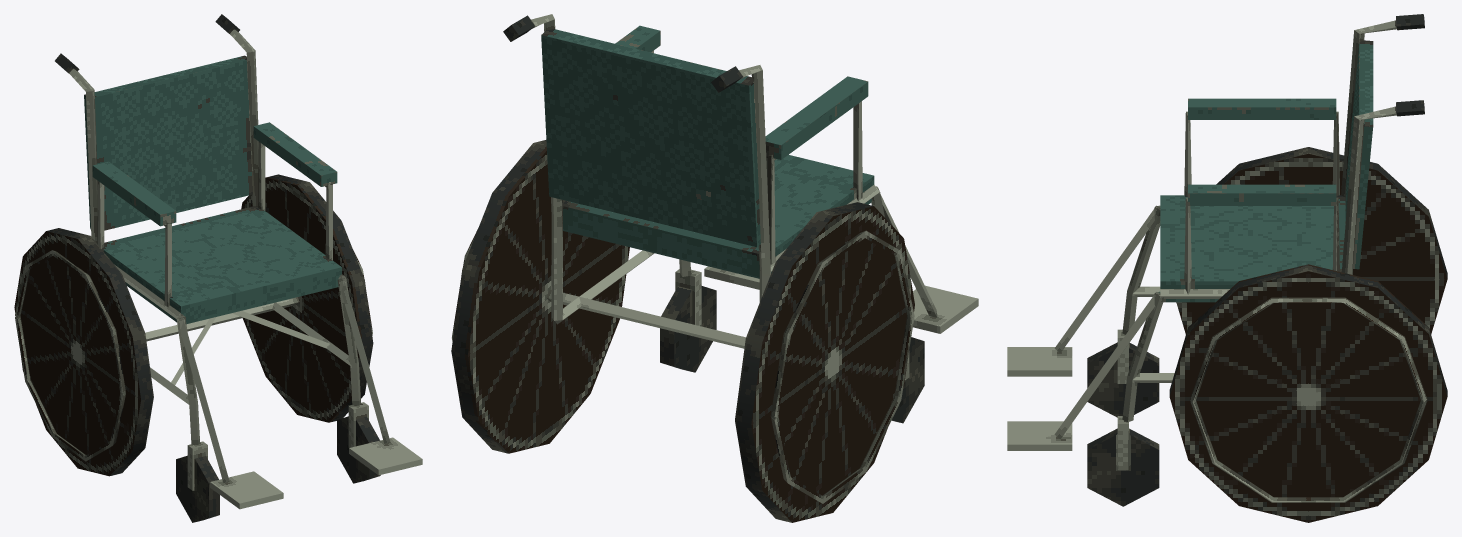
File: Wheelchair_01.glb
3 views of the same model, side by side, from view 1: azimuth 30°, elevation 25°; view 2: azimuth 150°, elevation 25°; view 3: azimuth 270°, elevation 25° (orthographic). The views are drawn at different scales.
Visible parts, largest first — view 1: Wheelchair_01; view 2: Wheelchair_01; view 3: Wheelchair_01.
Boxes of the visible parts, left/top/right/bottom form: Wheelchair_01: left=14, top=14, right=422, bottom=522; Wheelchair_01: left=451, top=14, right=978, bottom=522; Wheelchair_01: left=1007, top=14, right=1447, bottom=522.
Size of the model in its own units: 0.687 by 0.9619 by 0.95.
1 material, 1 textured.
